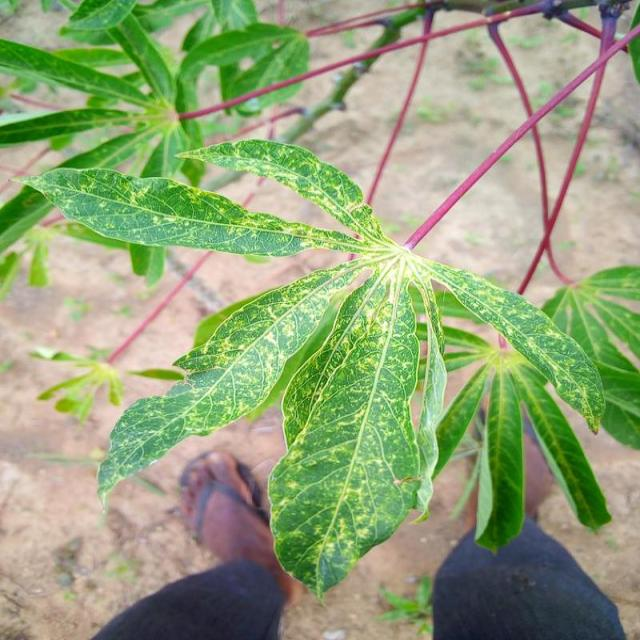cassava leaf: (14, 135, 612, 600)
